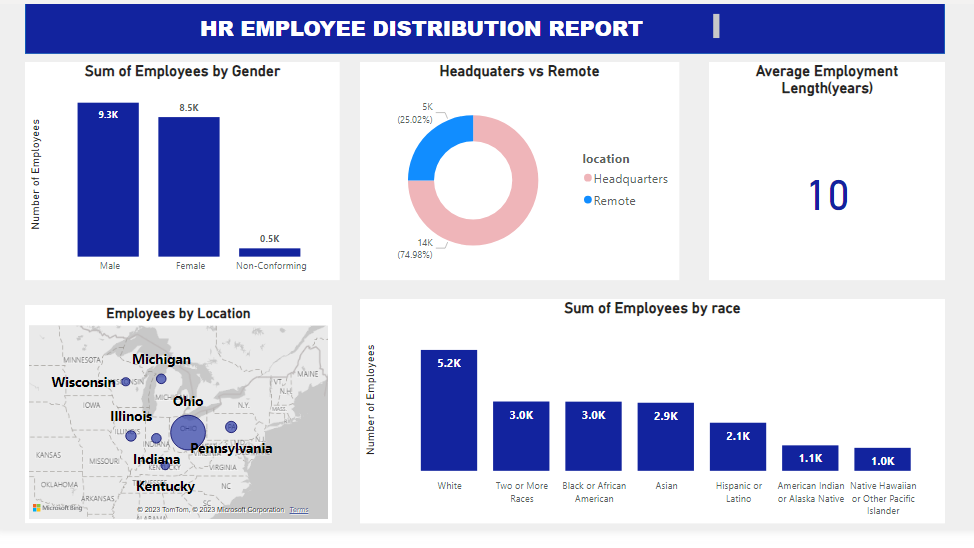

What the dashboard file says about the page in this screenshot:
{"tool":"powerbi","page":{"name":"Page 1","canvas":[1280,720],"ordinal":0},"visuals":[{"type":"columnChart","title":"Sum of Employees by Gender","fields":{"Y":["Sum(gender.count)"],"Category":["gender.gender"]},"box":[42.4,120.7,404.4,279.9],"z":0},{"type":"card","title":"Average Employment Length(years)","fields":{"Values":["Sum(avg_length_employment.avg_employment_length)"]},"box":[920.5,120.7,303,279.9],"z":1000},{"type":"donutChart","title":"Headquaters vs Remote","fields":{"Y":["Sum(location.count)"],"Category":["location.location"]},"box":[472.5,120.7,409.5,279.9],"z":2000},{"type":"map","title":"Employees by Location","fields":{"Category":["STATE.location_state"],"Size":["Sum(STATE.count)"]},"box":[42.4,432.7,394.1,279.9],"z":3000},{"type":"clusteredColumnChart","title":"Sum of Employees  by race","fields":{"Category":["RACE.race"],"Y":["Sum(RACE.count)"]},"box":[472.5,425,751.1,287.6],"z":4000},{"type":"shape","box":[42.4,41.1,1181.1,69.3],"z":4001},{"type":"textbox","box":[261.9,53.9,676.6,43.7],"z":4002}]}

Visuals, with their boxes in screenshot pixels (x1, y1, x2, y2), scaled from the page's 1280x720 canvas onto the 974x548 screenshot:
"Sum of Employees by Gender" columnChart: region(32, 92, 340, 305)
"Average Employment Length(years)" card: region(700, 92, 931, 305)
"Headquaters vs Remote" donutChart: region(360, 92, 671, 305)
"Employees by Location" map: region(32, 329, 332, 542)
"Sum of Employees  by race" clusteredColumnChart: region(360, 323, 931, 542)
shape: region(32, 31, 931, 84)
textbox: region(199, 41, 714, 74)
